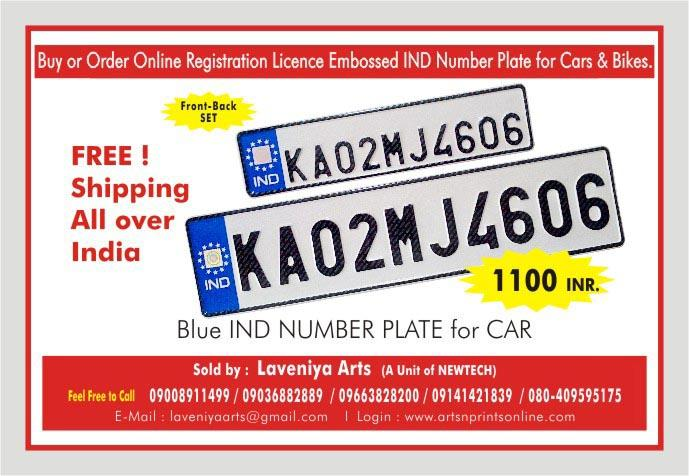inlp: (182, 143, 633, 319), (232, 78, 536, 201)
